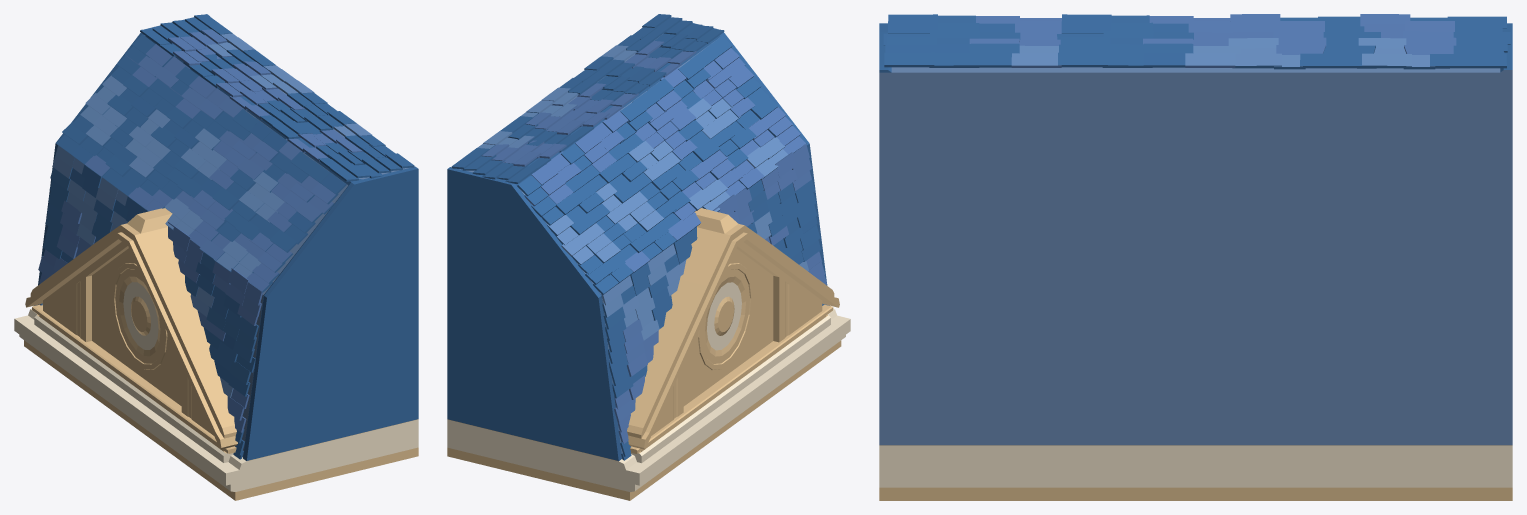
The model's file is Roof_DoubleSide.fbx.
3 views of the same model, side by side, from view 1: azimuth 30°, elevation 25°; view 2: azimuth 150°, elevation 25°; view 3: azimuth 270°, elevation 25° (orthographic). The views are drawn at different scales.
Visible parts, largest first — view 1: Roof_DoubleSide; view 2: Roof_DoubleSide; view 3: Roof_DoubleSide.
Part boxes in pixels (bbox=[...]): Roof_DoubleSide: bbox=[14, 14, 418, 500]; Roof_DoubleSide: bbox=[447, 14, 850, 500]; Roof_DoubleSide: bbox=[879, 14, 1512, 500].
Size of the model in its own units: 210 by 400 by 305.
